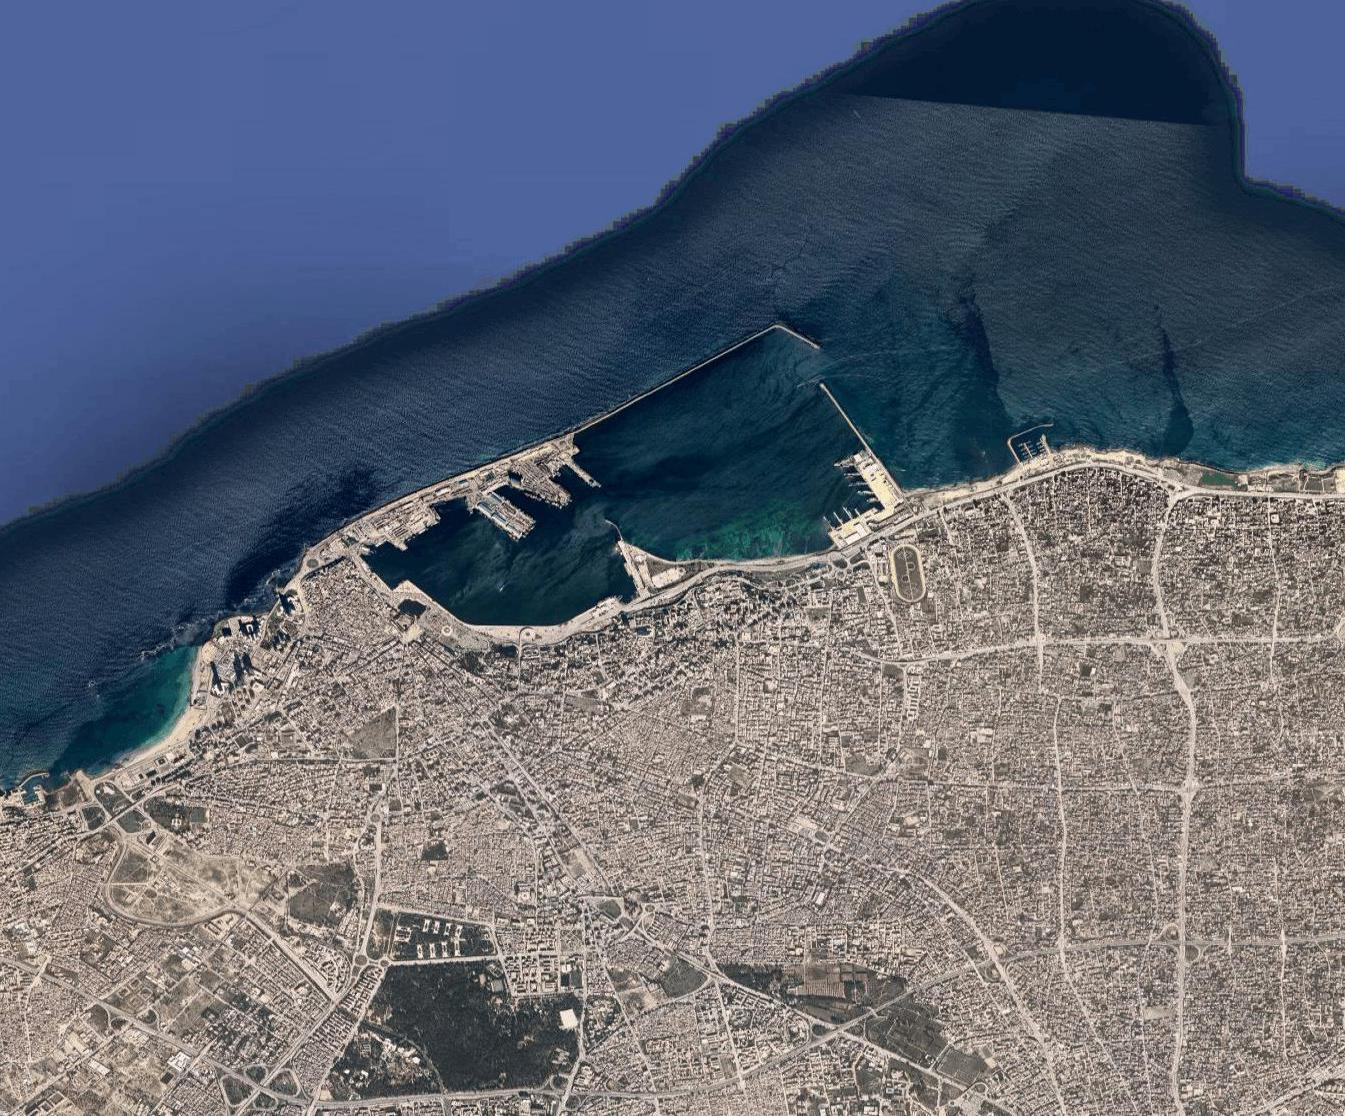harbor: (309, 366, 898, 631), (1003, 414, 1057, 466)
